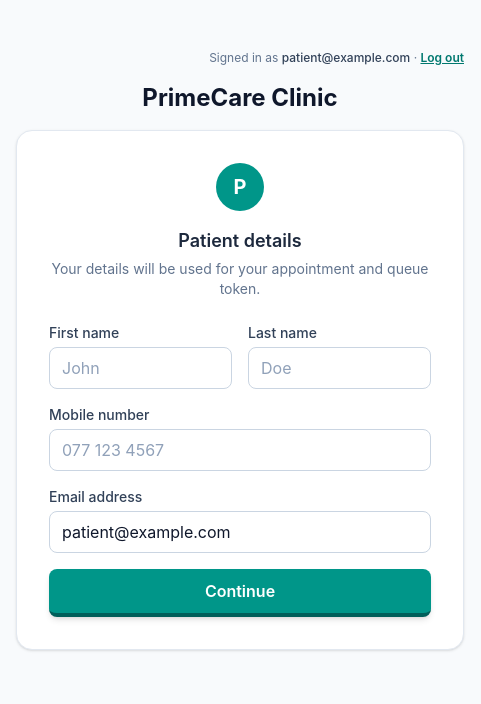
Test: PatientDetails › validates the fields before saving
This screenshot has width=481, height=704.
Clear the field labelled "Email address" at [240, 532], box left=49, top=511, right=431, bottom=553
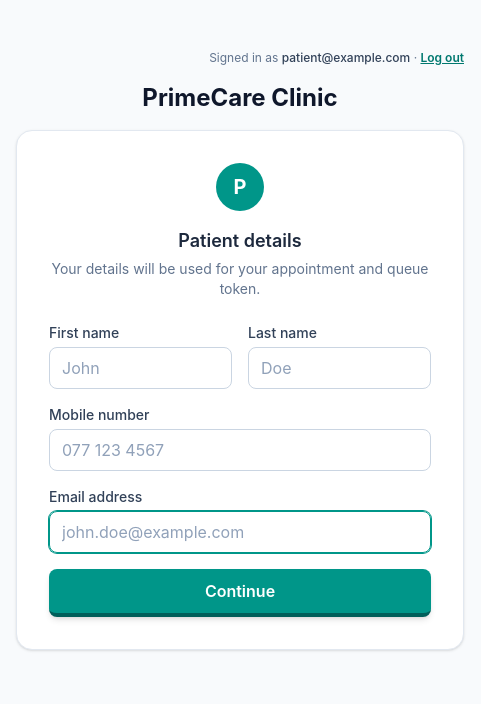
Type "12ab" into the field labelled "Mobile number" at [240, 450], box left=49, top=429, right=431, bottom=471
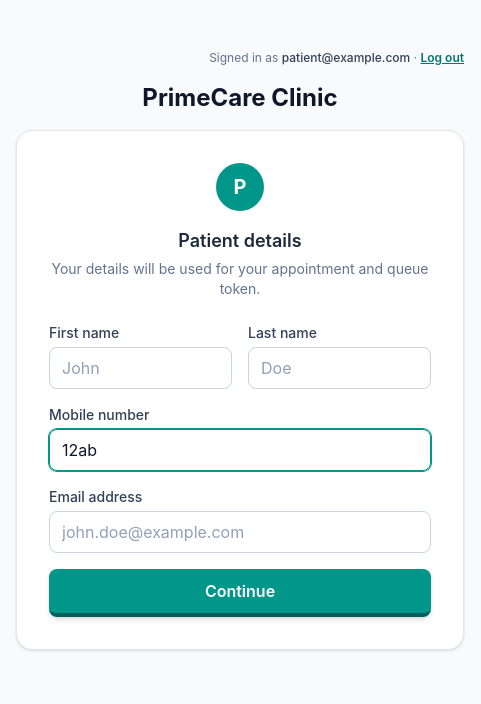
Click the button "Continue" at [240, 593], box left=49, top=569, right=431, bottom=617
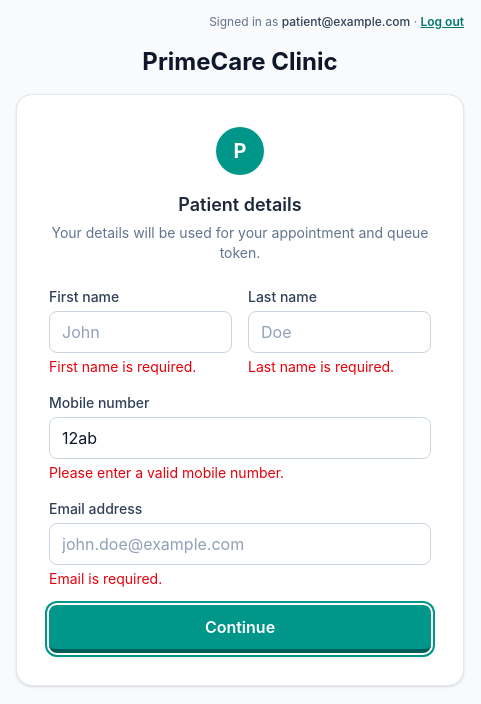
Result: the text "First name is required." is shown at left=49, top=358, right=196, bottom=375
Result: the text "Last name is required." is shown at left=248, top=358, right=394, bottom=375
Result: the text "Please enter a valid mobile number." is shown at left=49, top=464, right=284, bottom=481
